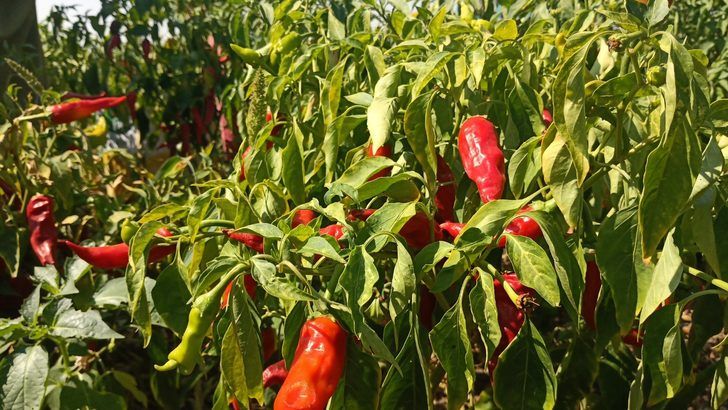Pepper: (270, 317, 353, 410), (454, 117, 510, 207), (21, 195, 60, 270), (45, 95, 126, 128)
